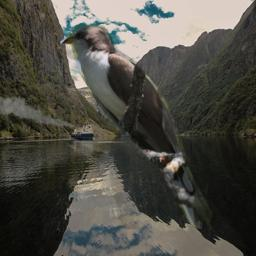Cuckoo: (60, 25, 215, 229)
